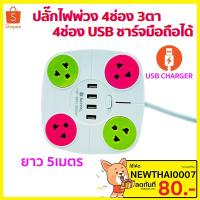Three_eye_plug: (38, 46, 146, 157)
